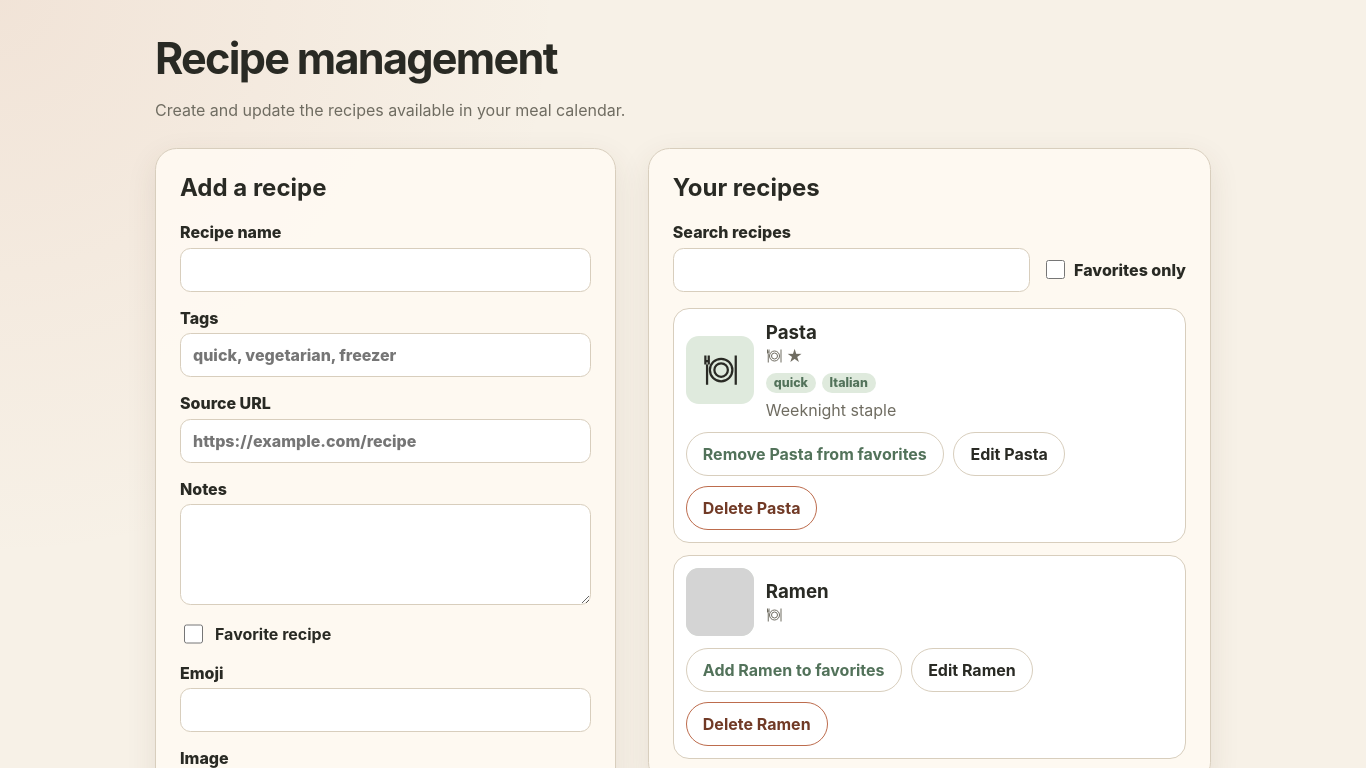
RecipeManagementPage › filters recipes by metadata and favorite status
Expected: the heading "Pasta" is shown, [766,320,817,344]
Type "italian" into the search field labelled "Search recipes" at [852, 270], box [673,248,1030,292]
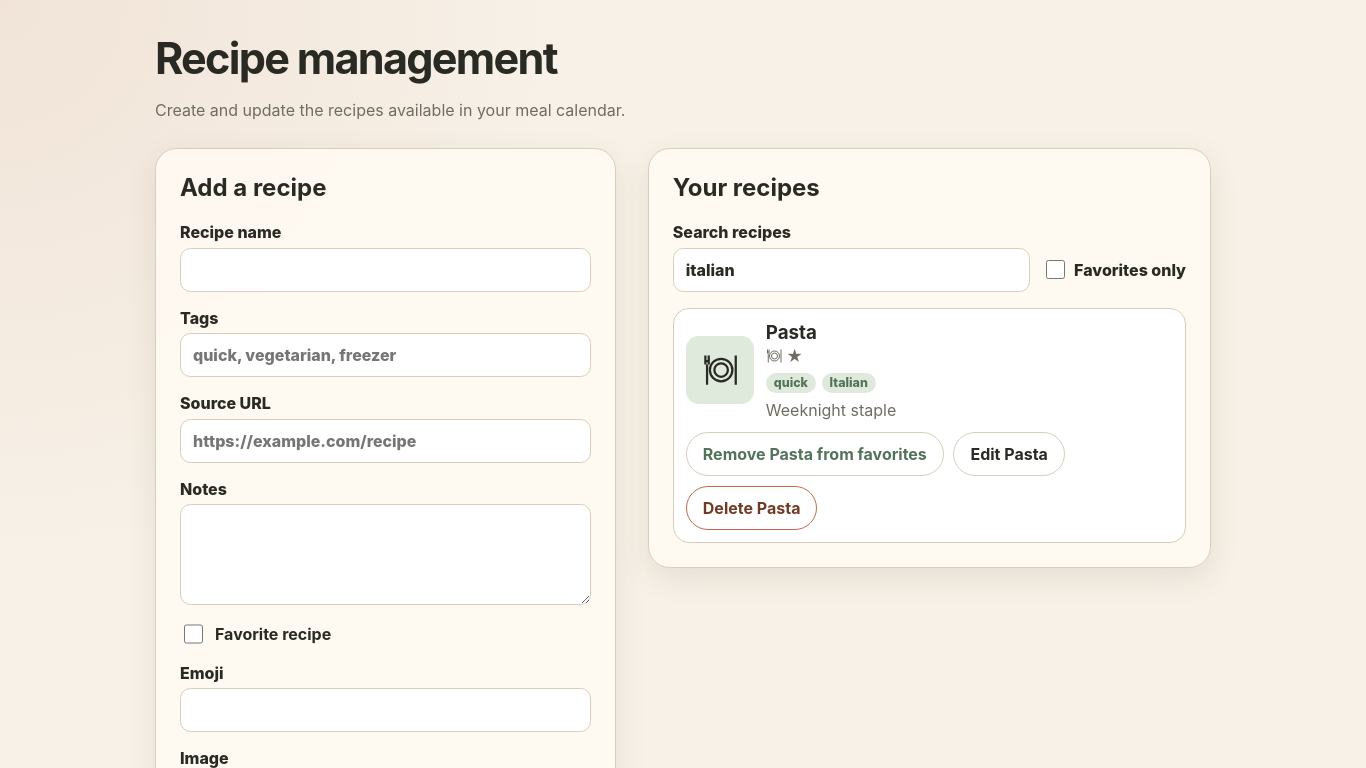
Expected: the heading "Pasta" is shown, [766,320,817,344]
Now the heading "Ramen" is gone
Clear the search field labelled "Search recipes" at [852, 270], box [673,248,1030,292]
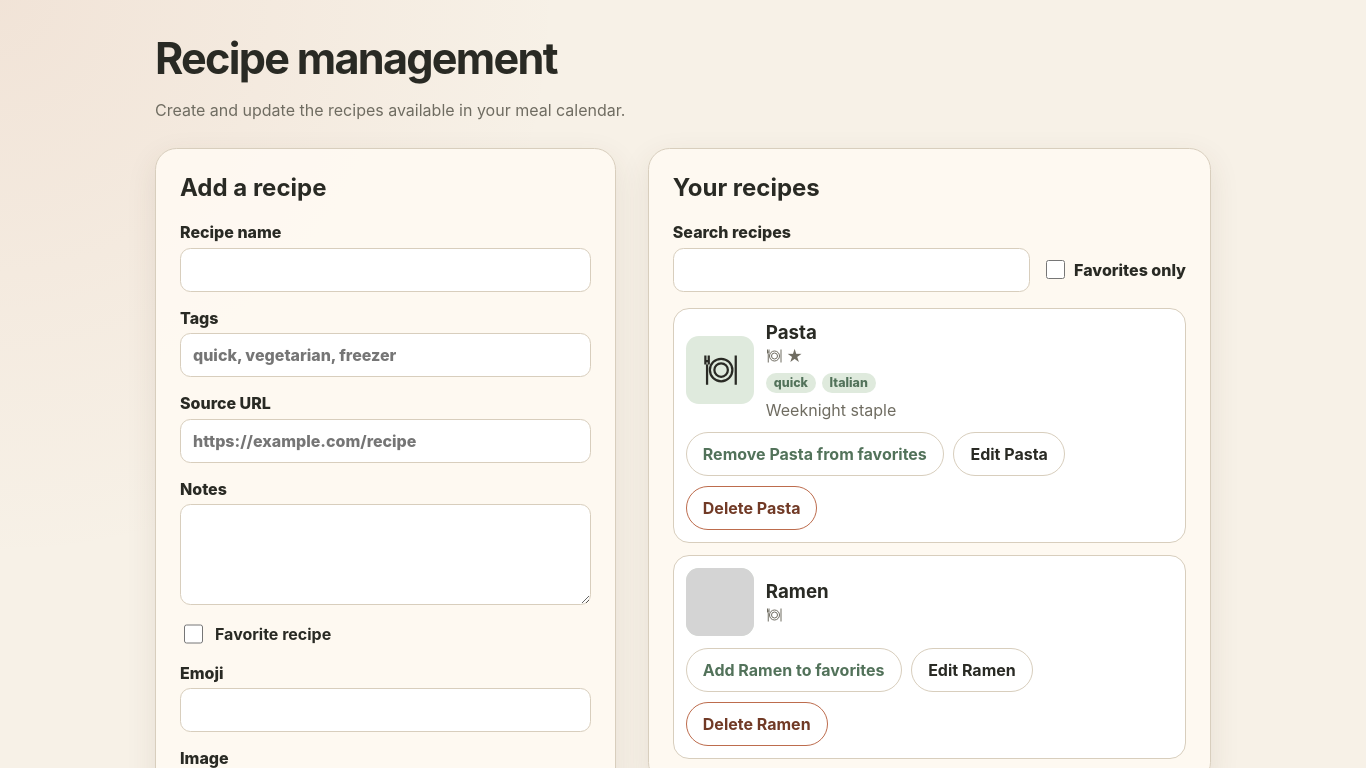
Click the checkbox labelled "Favorites only" at [1056, 270], box [1046,260,1066,279]
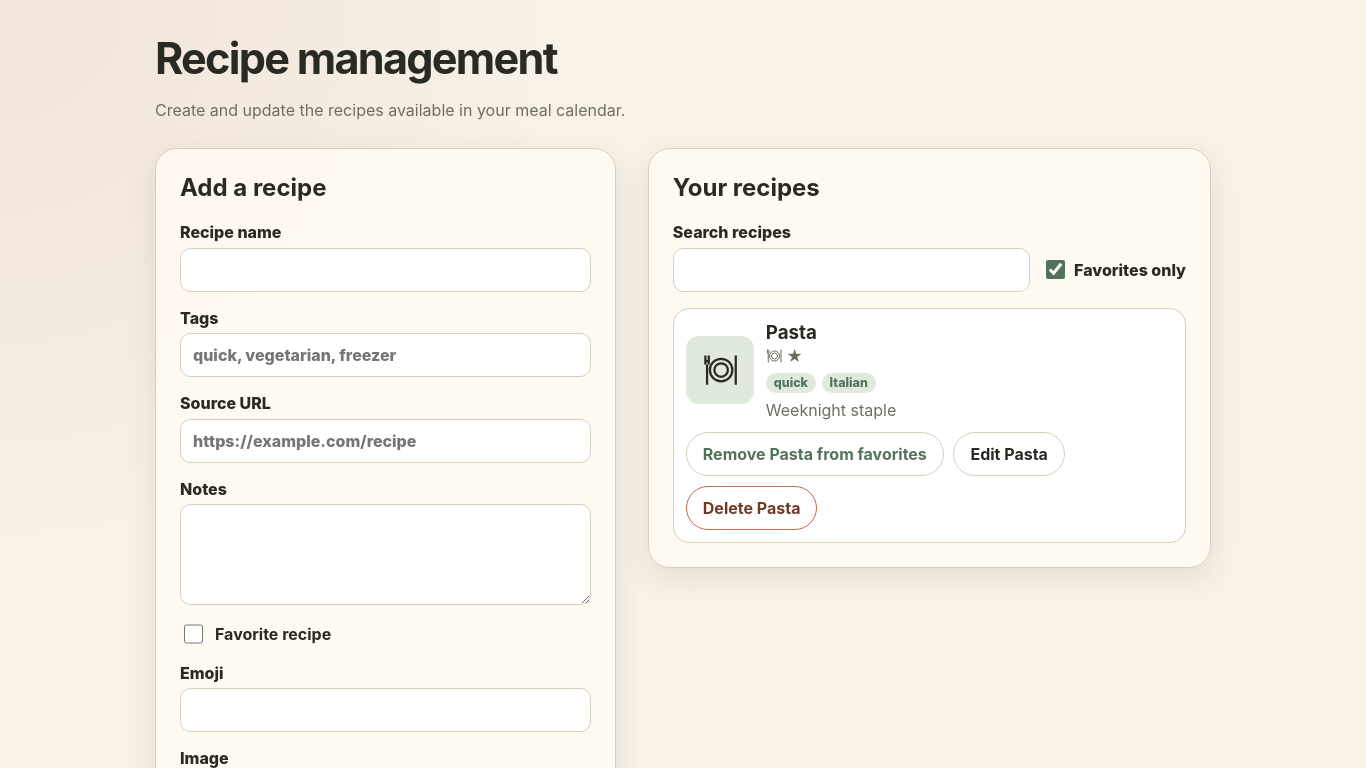
Expected: the heading "Pasta" is shown, [766,320,817,344]
Now the heading "Ramen" is gone
